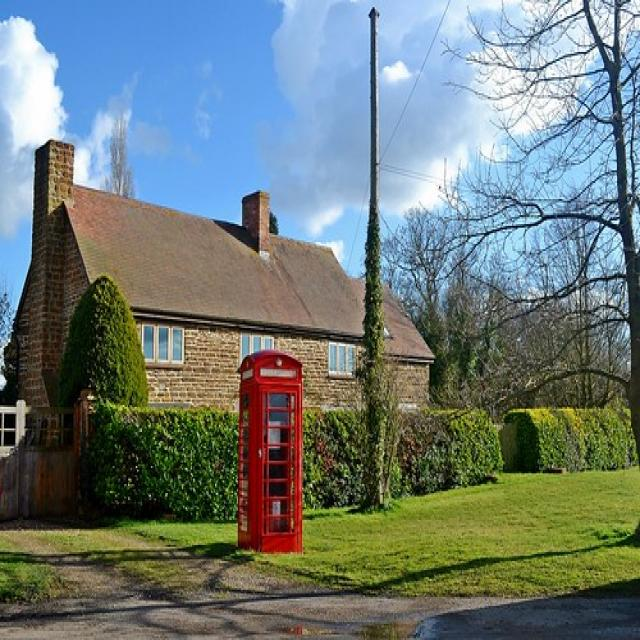Normal_building: (2, 137, 436, 523)
